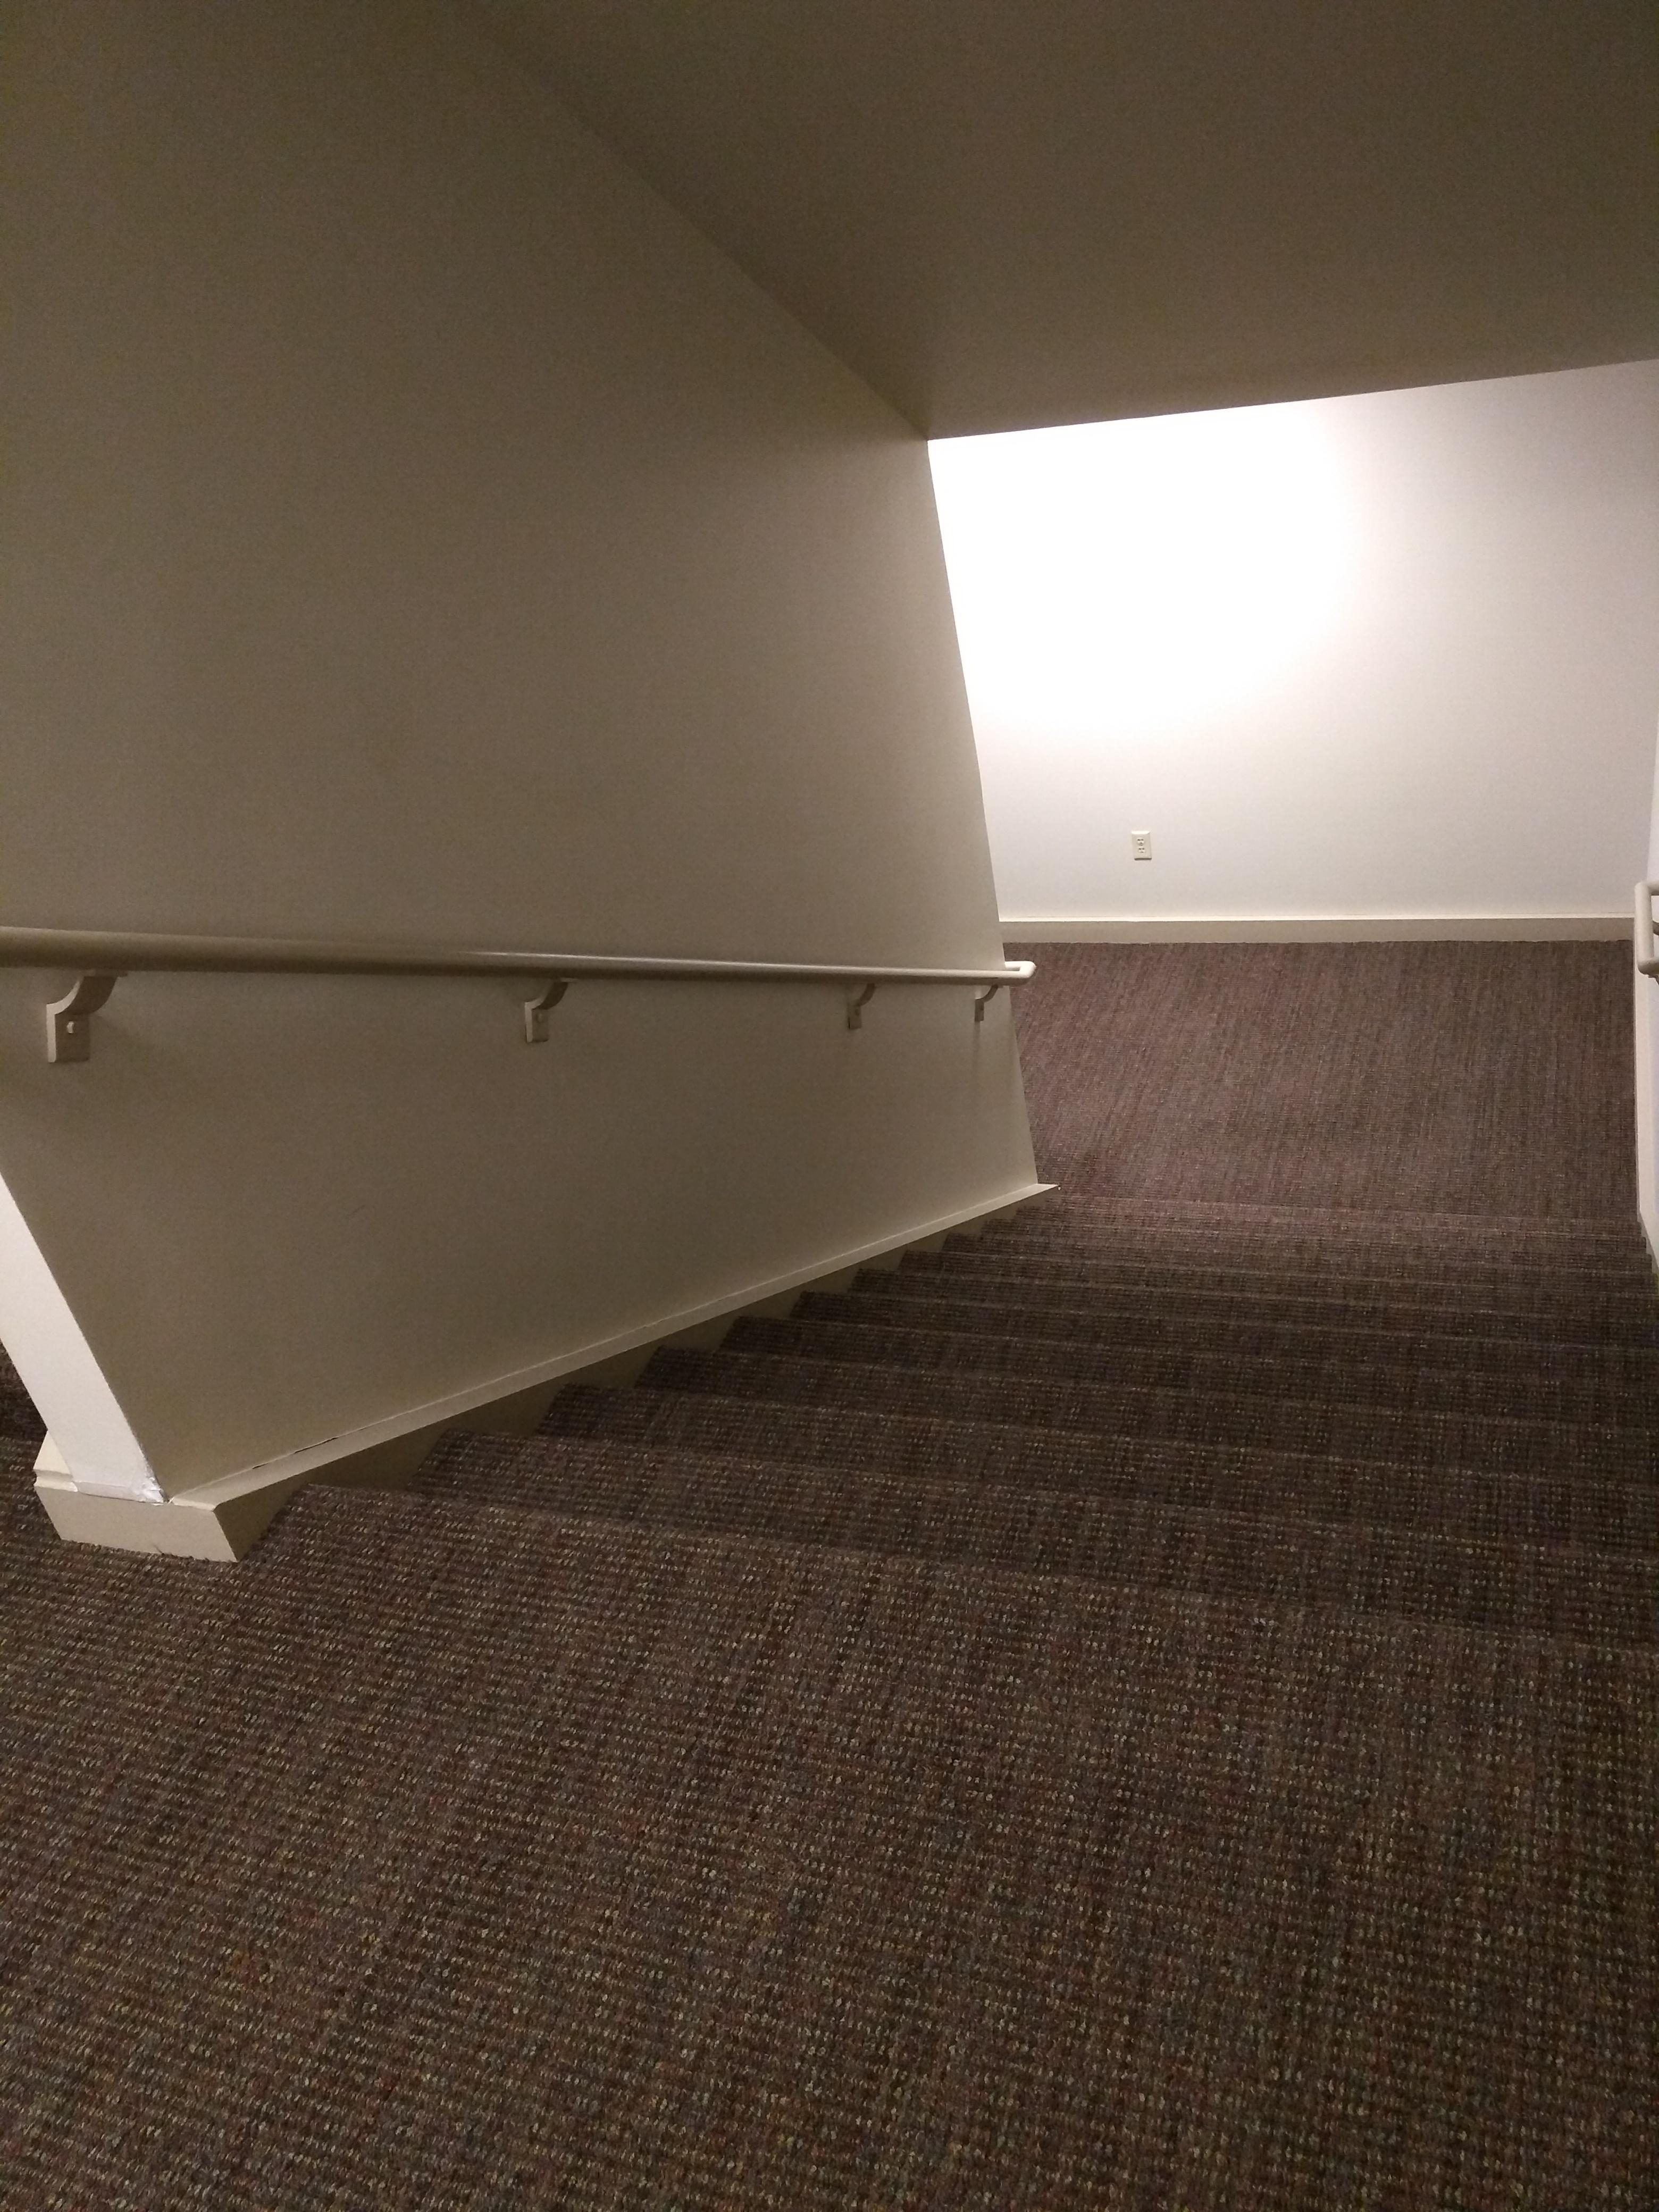stairs_down: (295, 1184, 1631, 1683)
